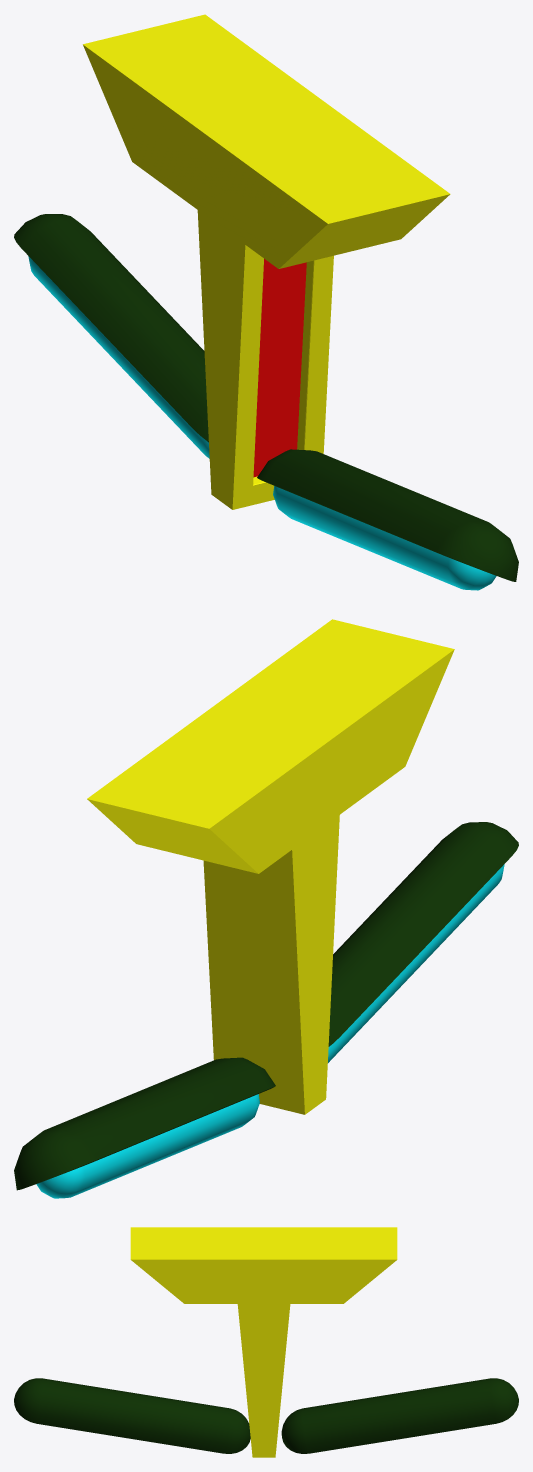
The model's file is lampade.FBX.
The picture shows the model from 3 angles, top to bottom: view 1: azimuth 30°, elevation 25°; view 2: azimuth 150°, elevation 25°; view 3: azimuth 270°, elevation 25°; orthographic projection. The views are drawn at different scales.
Parts seen in each view (by area): view 1: Box001; view 2: Box001; view 3: Box001.
Boxes of the visible parts, x1,y1,x2,y2 form: Box001: (14,14,518,590); Box001: (14,619,518,1198); Box001: (14,1227,518,1457).
Bounding box in the file's own units: 51.34 × 150 × 337.
